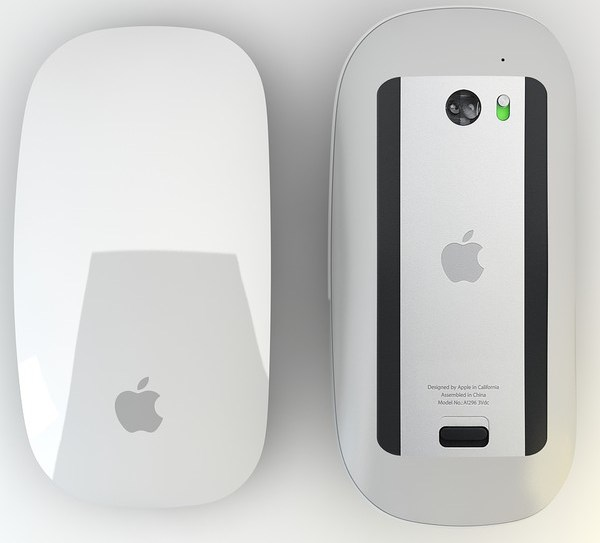Apple: (426, 222, 508, 301), (105, 367, 179, 443)
